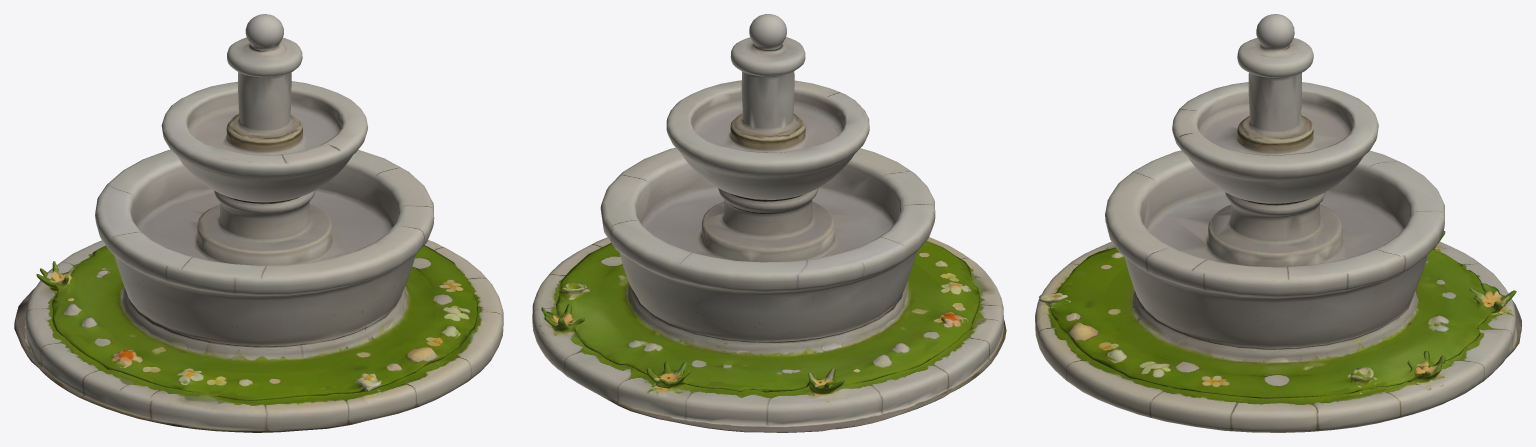
File: fountain.glb
3 renders of one model, left to right at view 1: azimuth 30°, elevation 25°; view 2: azimuth 150°, elevation 25°; view 3: azimuth 270°, elevation 25°, orthographic.
Visible parts, largest first — view 1: tripo_node_5e301204-d803-462e-a0cf-5245f6c6a23b; view 2: tripo_node_5e301204-d803-462e-a0cf-5245f6c6a23b; view 3: tripo_node_5e301204-d803-462e-a0cf-5245f6c6a23b.
Part boxes in pixels (<box>): tripo_node_5e301204-d803-462e-a0cf-5245f6c6a23b: <box>14,14,503,432</box>; tripo_node_5e301204-d803-462e-a0cf-5245f6c6a23b: <box>532,14,1006,432</box>; tripo_node_5e301204-d803-462e-a0cf-5245f6c6a23b: <box>1035,14,1521,432</box>.
Size of the model in its own units: 0.9901 by 0.7318 by 0.9975.
1 material, 1 textured.
